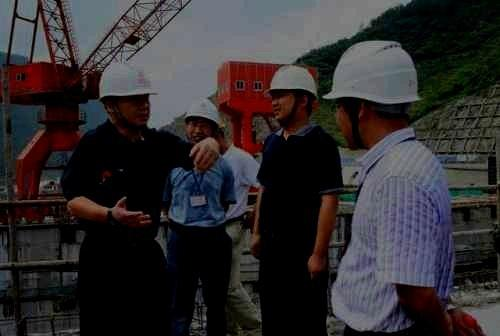helmet: (321, 41, 423, 151), (97, 62, 159, 128), (261, 64, 318, 123), (181, 95, 221, 144)
